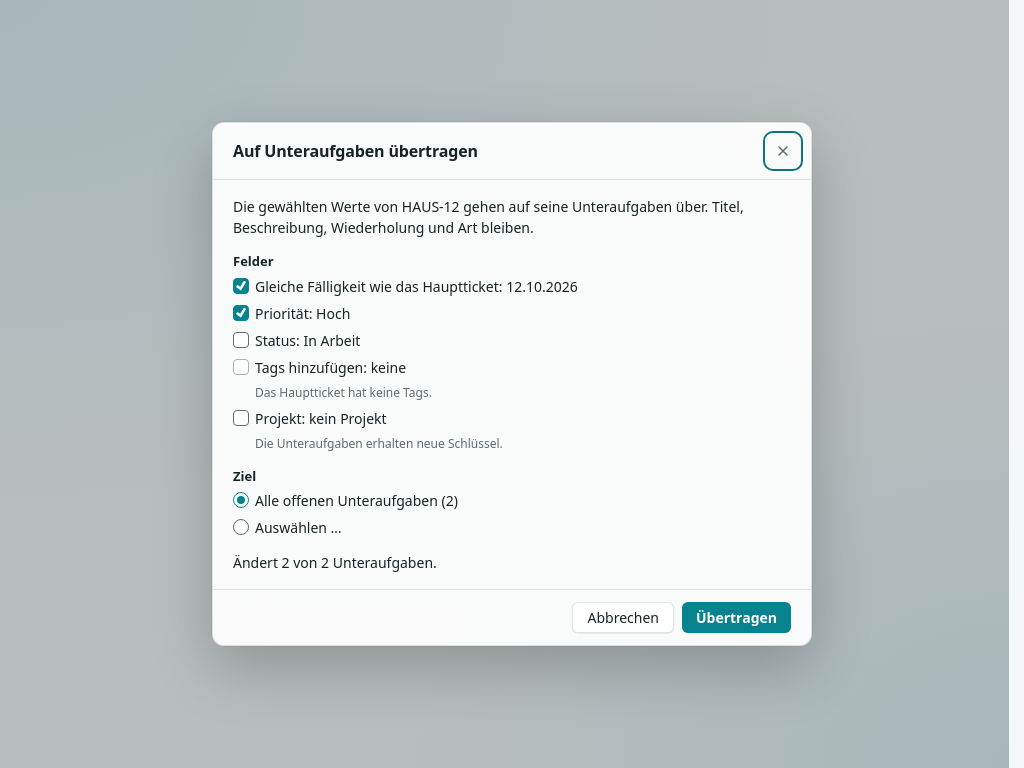
Test: the dialog › says that the ticket changed meanwhile (409)
The width and height of the screenshot is (1024, 768).
What coordinates should you click on to do the following:
click the button "Übertragen"
I would click on:
 (736, 618)
Its box is [682,602,791,633].
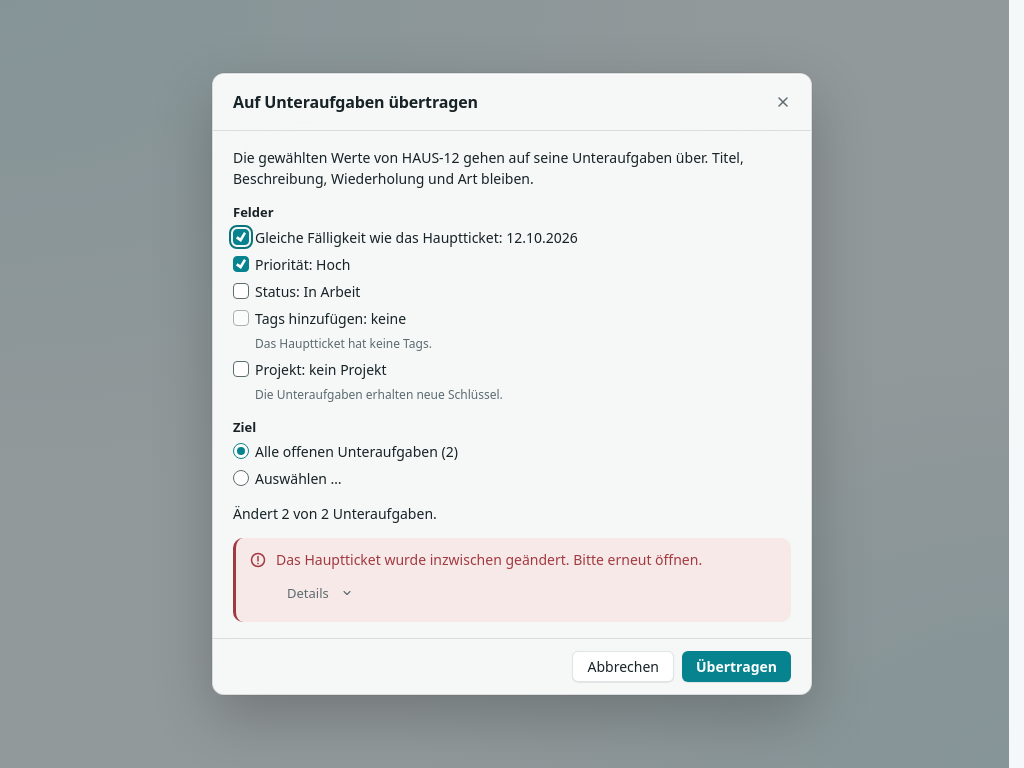
Expected: the message shows "Das Hauptticket wurde inzwischen geändert. Bitte erneut öffnen.", [276,550,702,569]
